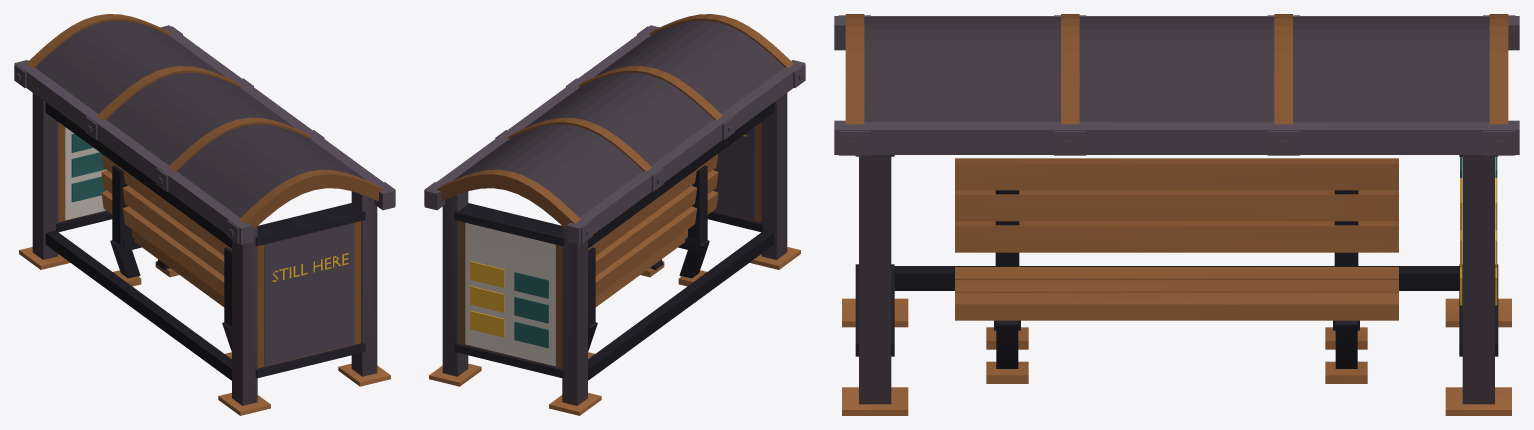
The picture shows the model from 3 angles, left to right: view 1: azimuth 30°, elevation 25°; view 2: azimuth 150°, elevation 25°; view 3: azimuth 270°, elevation 25°; orthographic projection. The views are drawn at different scales.
Parts seen in each view (by area): view 1: roof_pal_asphalt, body_pal_asphalt, body_pal_uiDark, body_pal_woodWarm, roof_pal_woodWarm, body_pal_picketWhite, body_pal_backpackTeal, body_pal_schoolBusYellow; view 2: roof_pal_asphalt, body_pal_asphalt, body_pal_uiDark, body_pal_woodWarm, body_pal_picketWhite, roof_pal_woodWarm, body_pal_schoolBusYellow, body_pal_backpackTeal; view 3: roof_pal_asphalt, body_pal_woodWarm, body_pal_asphalt, roof_pal_woodWarm, body_pal_uiDark, body_pal_schoolBusYellow.
Boxes of the visible parts, <box> form: roof_pal_asphalt: <box>14,20,395,244</box>; body_pal_asphalt: <box>32,93,377,405</box>; body_pal_uiDark: <box>45,102,365,380</box>; body_pal_woodWarm: <box>19,122,390,415</box>; roof_pal_woodWarm: <box>26,14,383,229</box>; body_pal_picketWhite: <box>65,127,106,220</box>; body_pal_backpackTeal: <box>71,133,106,202</box>; body_pal_schoolBusYellow: <box>272,253,348,281</box>; roof_pal_asphalt: <box>424,20,805,244</box>; body_pal_asphalt: <box>442,93,787,405</box>; body_pal_uiDark: <box>454,102,774,380</box>; body_pal_woodWarm: <box>429,122,800,415</box>; body_pal_picketWhite: <box>465,222,555,365</box>; roof_pal_woodWarm: <box>436,14,793,229</box>; body_pal_schoolBusYellow: <box>470,134,746,337</box>; body_pal_backpackTeal: <box>514,272,548,348</box>; roof_pal_asphalt: <box>834,15,1519,155</box>; body_pal_woodWarm: <box>842,158,1511,415</box>; body_pal_asphalt: <box>859,155,1494,404</box>; roof_pal_woodWarm: <box>845,14,1508,124</box>; body_pal_uiDark: <box>855,155,1498,368</box>; body_pal_schoolBusYellow: <box>1460,178,1497,305</box>.
Bounding box in the file's own units: 2.04 × 2.67 × 4.97.
